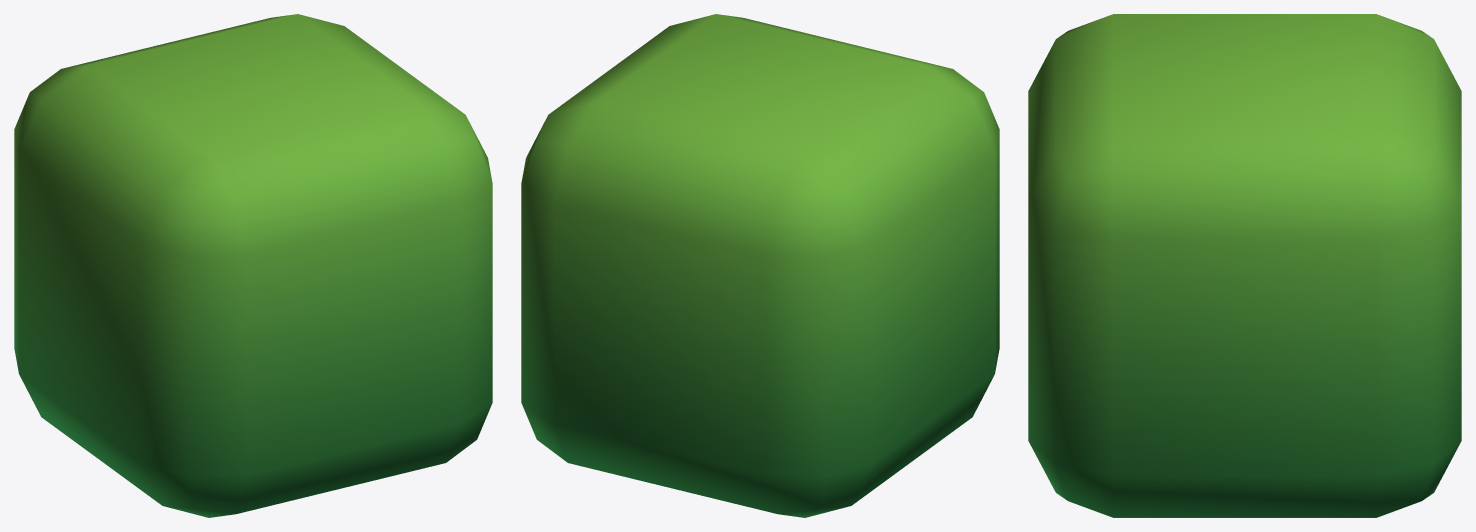
The model's file is Bush_2_B_Color1.glb.
3 views of the same model, side by side, from view 1: azimuth 30°, elevation 25°; view 2: azimuth 150°, elevation 25°; view 3: azimuth 270°, elevation 25° (orthographic). The views are drawn at different scales.
Parts seen in each view (by area): view 1: Bush_2_B_Color1; view 2: Bush_2_B_Color1; view 3: Bush_2_B_Color1.
Part boxes in pixels (<box>): Bush_2_B_Color1: <box>14,14,492,517</box>; Bush_2_B_Color1: <box>521,14,999,517</box>; Bush_2_B_Color1: <box>1028,14,1461,517</box>.
Bounding box in the file's own units: 0.858 × 0.858 × 0.858.
Materials: 1 (1 with a texture image).
